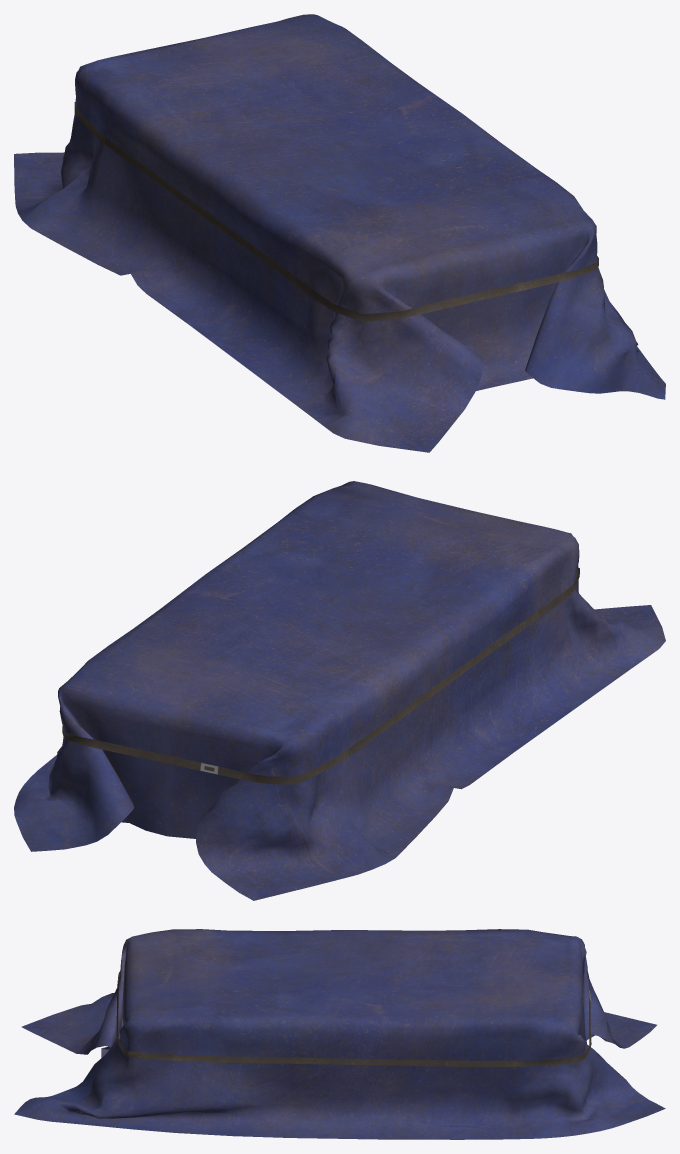
File: tarp-covered_crate__low-poly.glb
3 views of the same model, one above another, from view 1: azimuth 30°, elevation 25°; view 2: azimuth 150°, elevation 25°; view 3: azimuth 270°, elevation 25° (orthographic). The views are drawn at different scales.
Visible parts, largest first — view 1: Wood_box_low; view 2: Wood_box_low; view 3: Wood_box_low.
Boxes of the visible parts, x1,y1,x2,y2 form: Wood_box_low: (14, 14, 665, 452); Wood_box_low: (14, 481, 665, 900); Wood_box_low: (14, 929, 665, 1139).
Size of the model in its own units: 0.9624 by 0.3198 by 1.91.
1 material, 1 textured.
